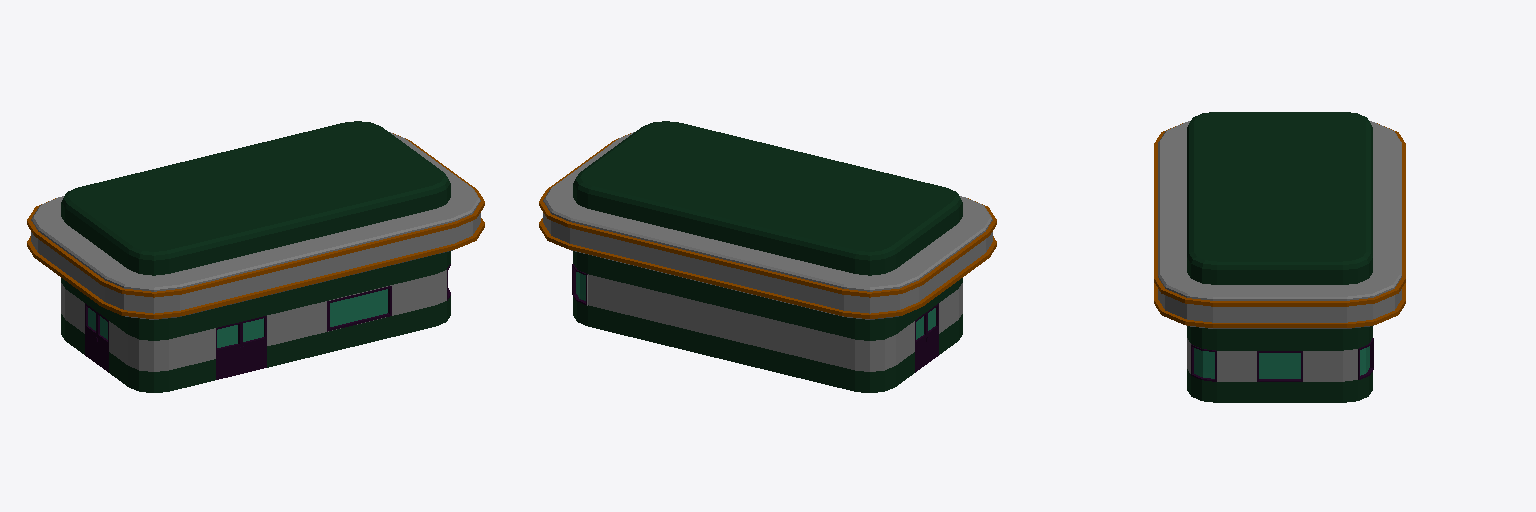
The model's file is Diner_Geo.obj.
3 views of the same model, side by side, from view 1: azimuth 30°, elevation 25°; view 2: azimuth 150°, elevation 25°; view 3: azimuth 270°, elevation 25° (orthographic).
Visible parts, largest first — view 1: pCube2; view 2: pCube2; view 3: pCube2.
Part boxes in pixels (x1,y1,x2,y2): pCube2: (27,121,484,392); pCube2: (539,121,996,392); pCube2: (1154,112,1405,402).
Size of the model in its own units: 24.73 by 8.71 by 14.37.